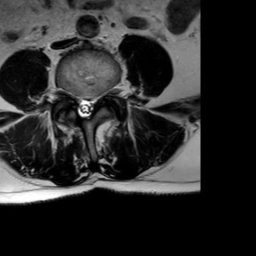CCS_normal: (81, 89, 88, 125)
LFS_stenosis: (95, 83, 103, 109)
LLS_normal: (88, 89, 95, 120)
RFS_stenosis: (67, 81, 75, 107)
RLS_normal: (75, 87, 81, 120)
